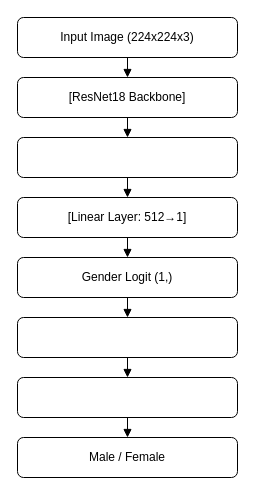
This 255x495 diagram has some shape labels left out. The centre of each missing label's shape, as x and y in pixels:
"Feature Vector (512,)" belongs at point 127,157.
"Gender Probability" belongs at point 127,397.
"Sigmoid Activation" belongs at point 127,337.
